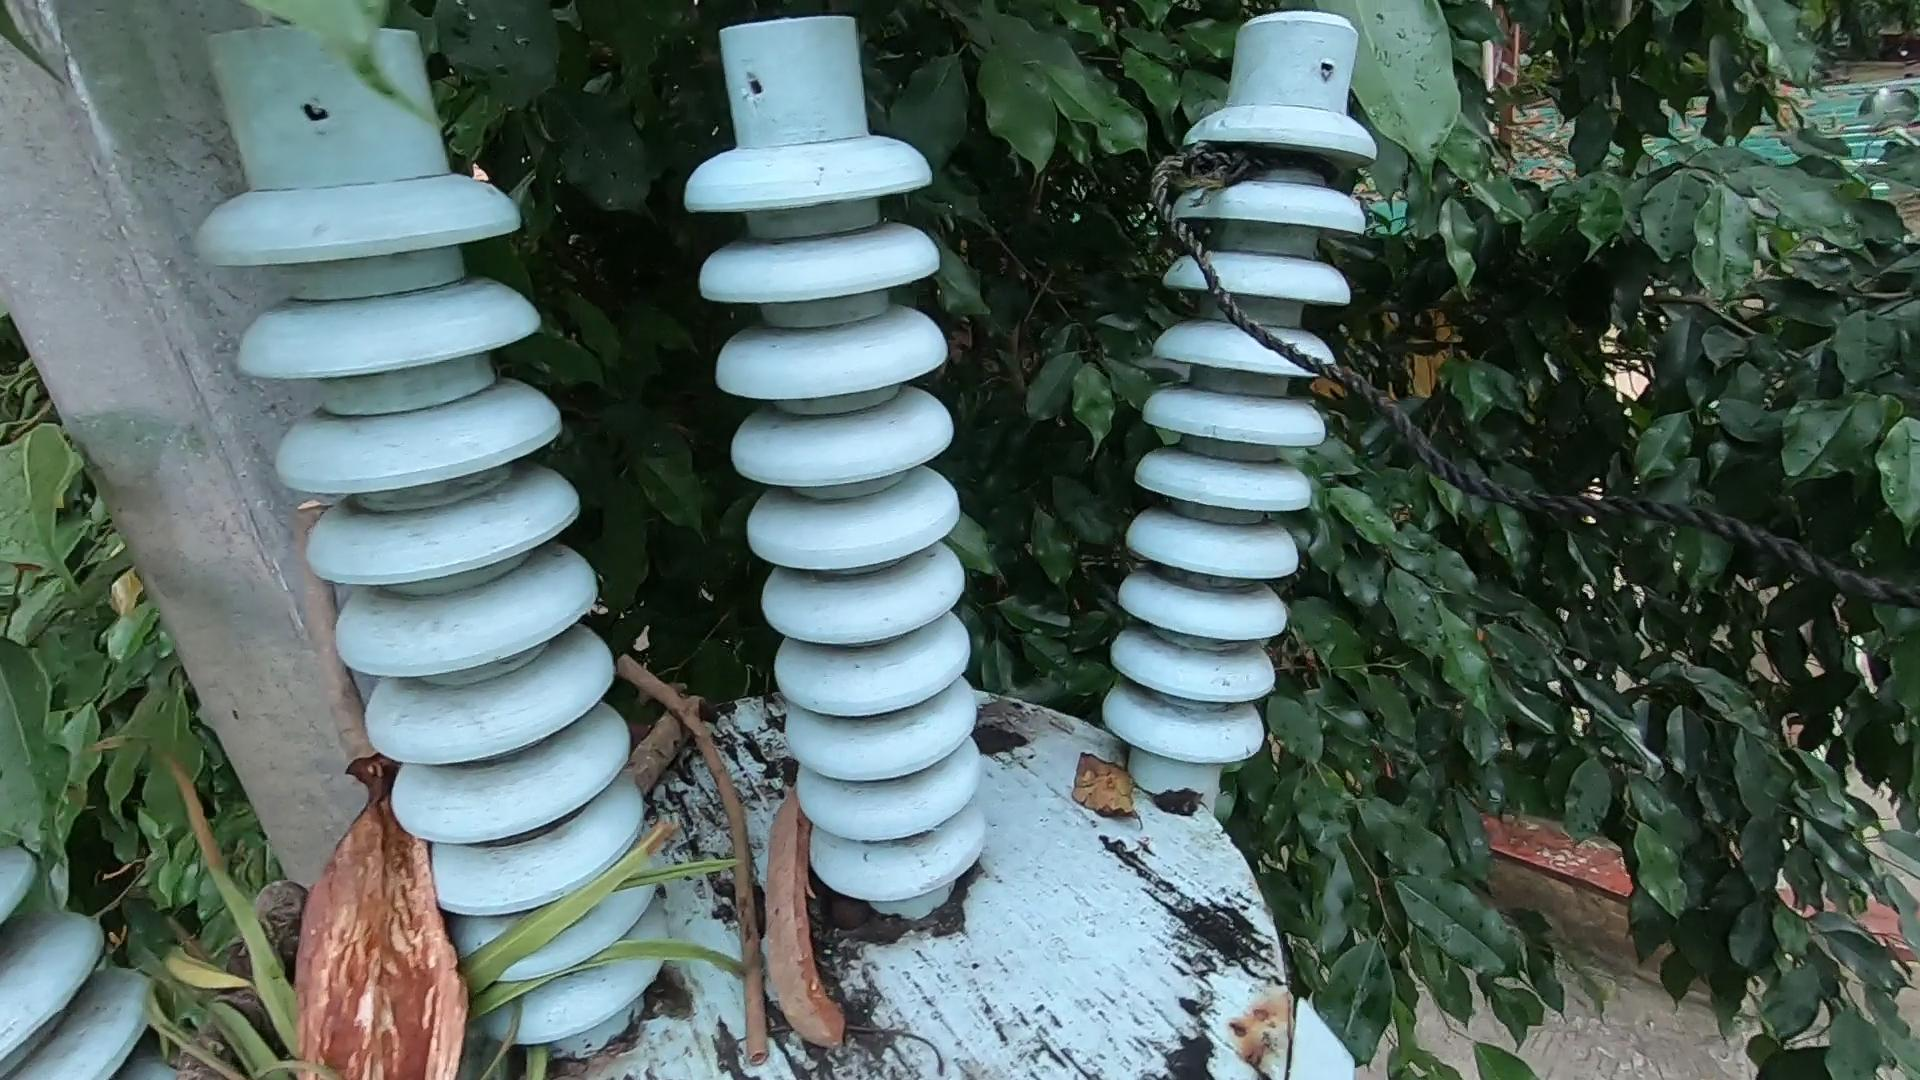branch with leaves: (193, 767, 611, 1080)
leaf: (1068, 736, 1195, 837)
mahogany fruit: (303, 753, 485, 1069), (771, 775, 860, 1051)
tree branch: (618, 638, 778, 1065)
